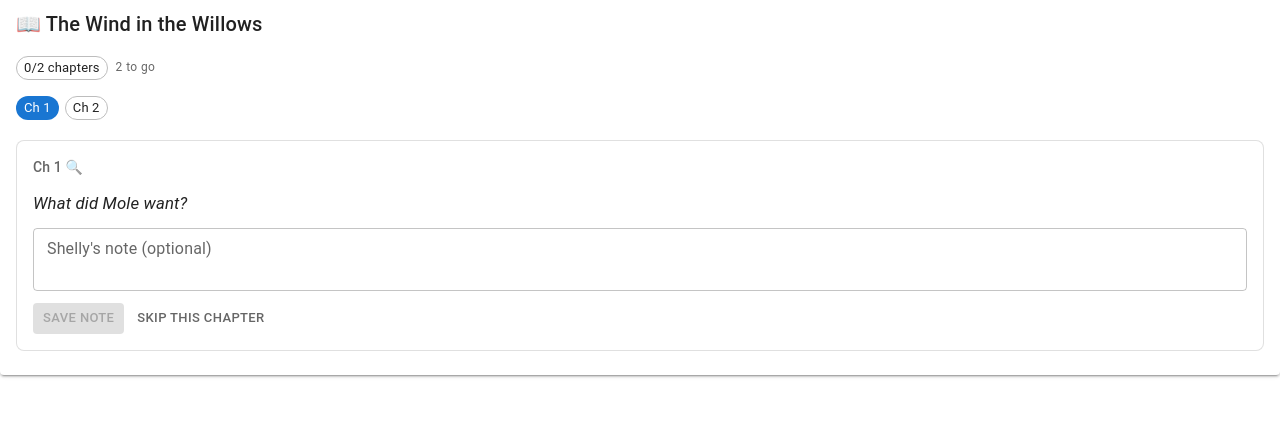
a failed chapter write never discards what was staged › keeps the parent's typed note and says it did not save
In the text box with placeholder "What did you notice about the response?": (640, 260) [47,237,1233,283], type "He said the river was alive"
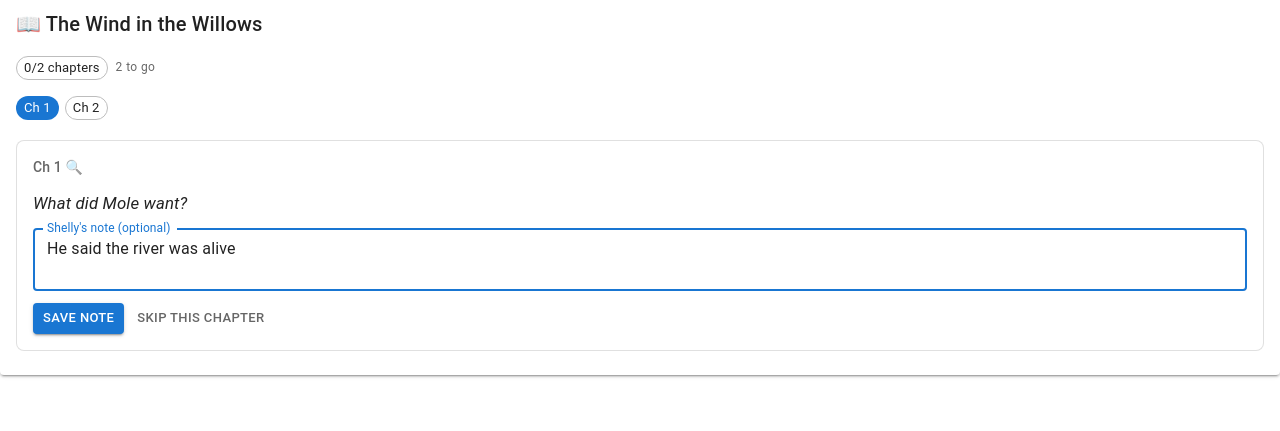
Click the button "Save Note": (79, 319) [33,303,124,334]
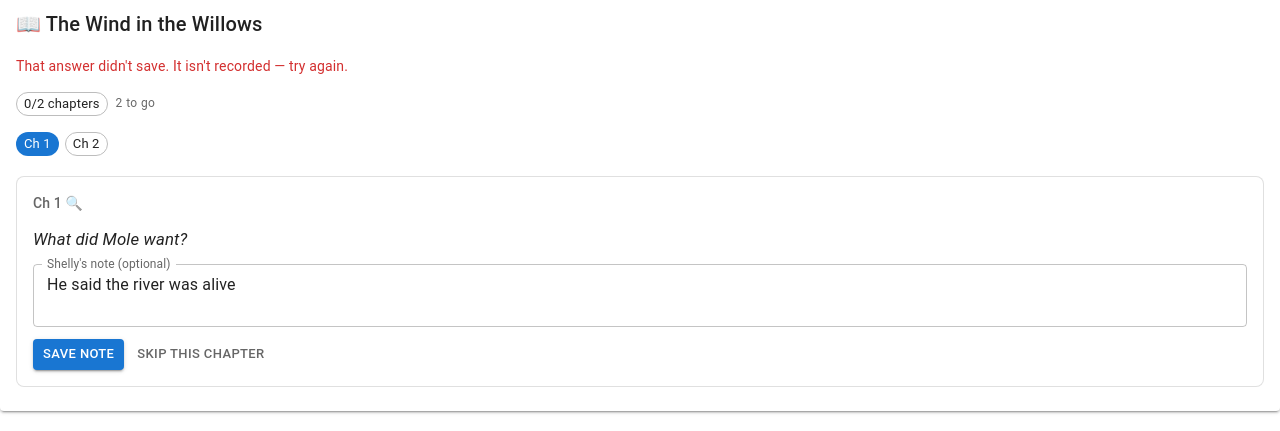
expect the text "That answer didn't save. It isn't recorded — try again." is shown: met, box [16,58,348,74]
